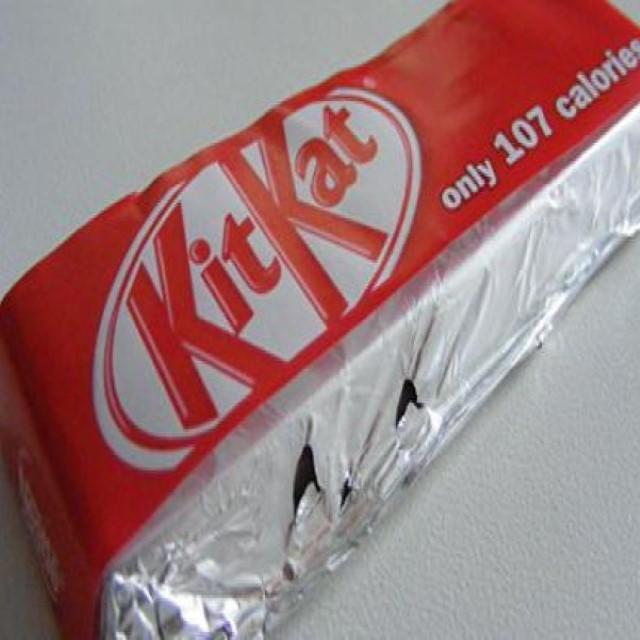kitkat_chocolate: (50, 3, 638, 640)
